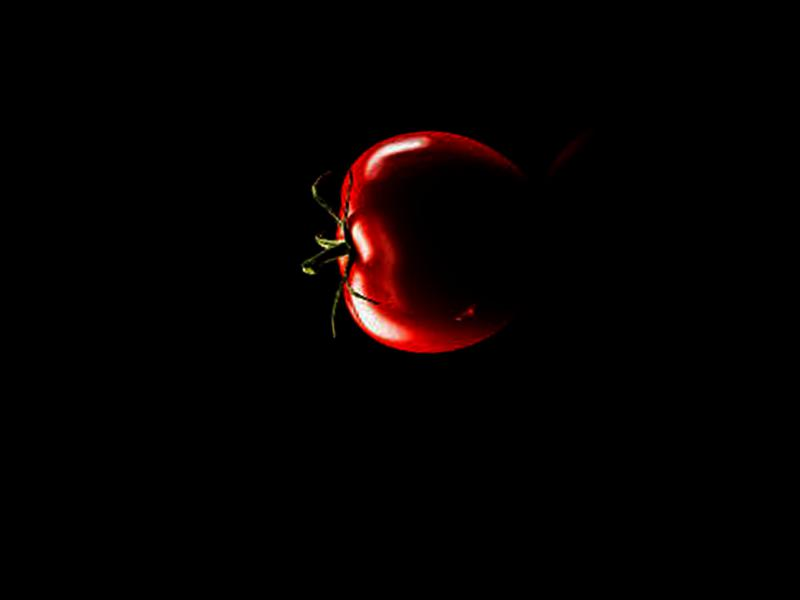Tomato: (318, 120, 544, 363)
